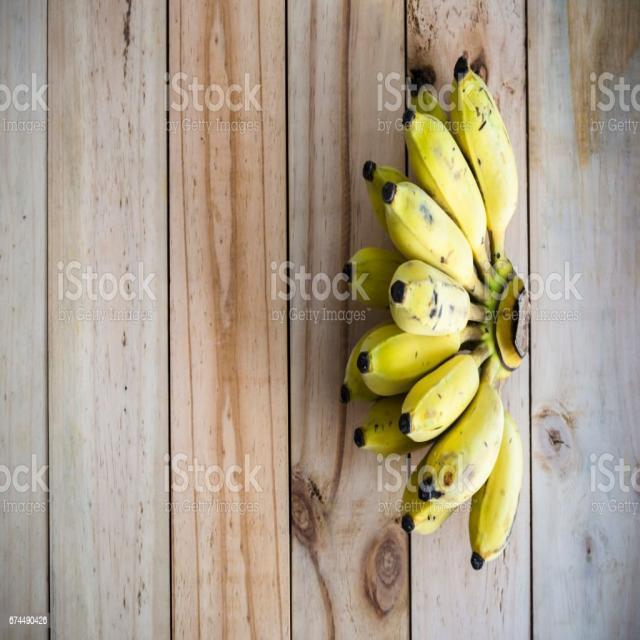banana: (336, 48, 540, 573)
